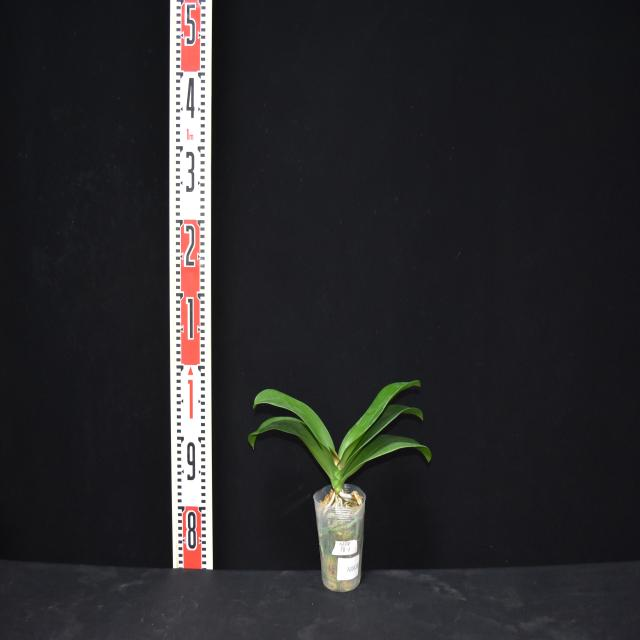leaf: (253, 389, 341, 481), (337, 380, 422, 469), (249, 417, 341, 489), (343, 405, 423, 473), (342, 435, 431, 480)
